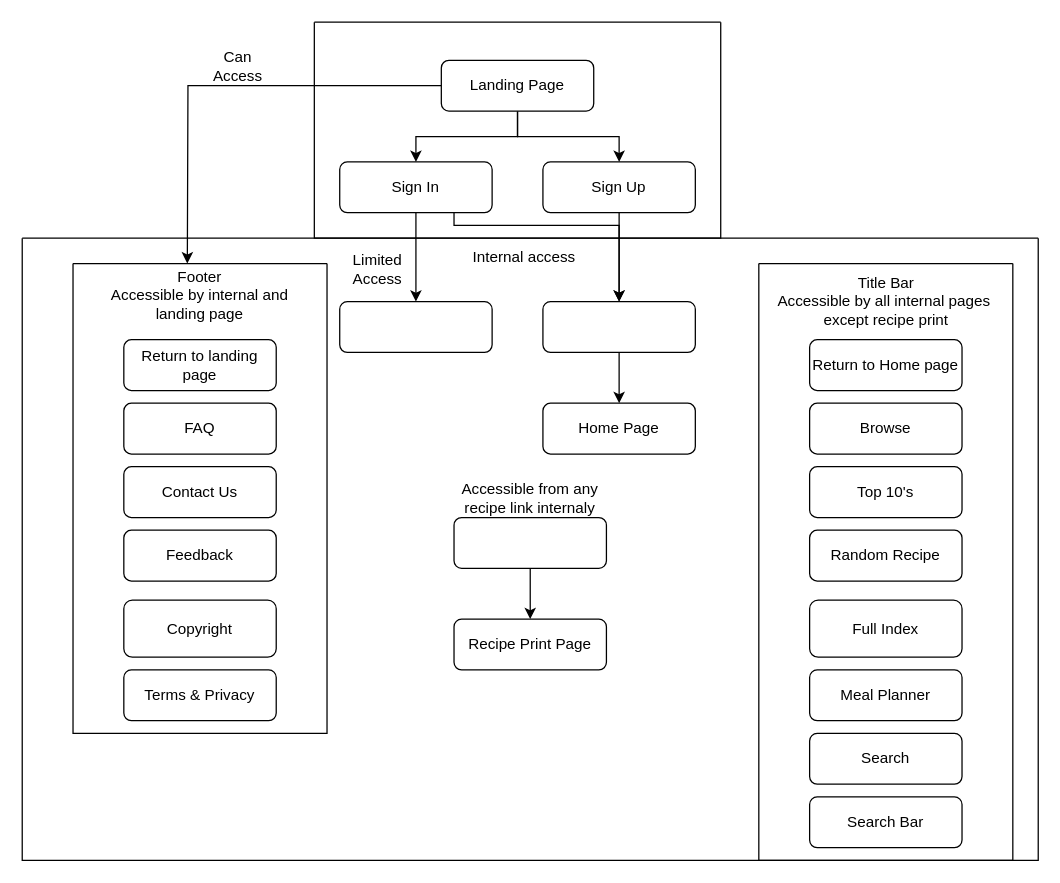
Image size: 1060x883. Some labels were removed from this diagram. Here are the shapes that lost their labels. From the top down, the centre of each, then its label:
At pixel 517 129: "Public Zone".
At pixel 415 326: "Admin Page".
At pixel 618 326: "Profile".
At pixel 529 542: "Recipe View Page".
